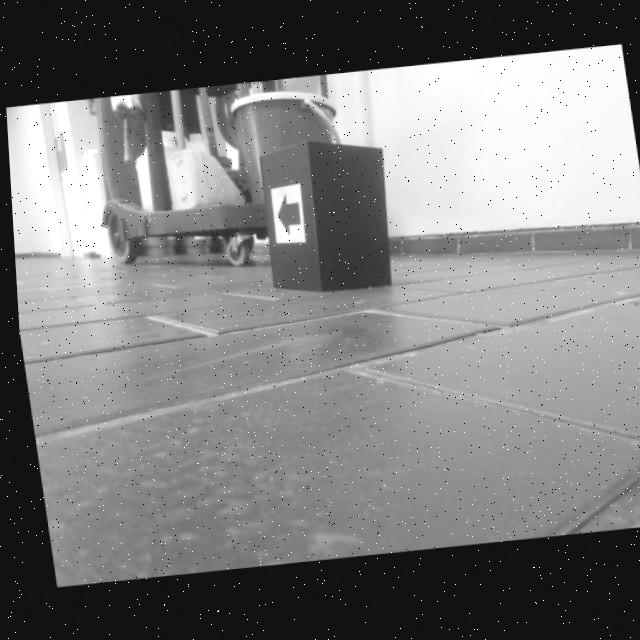LEFT: (274, 193, 298, 236)
